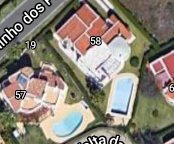pool: (52, 114, 81, 133), (117, 79, 129, 115)
